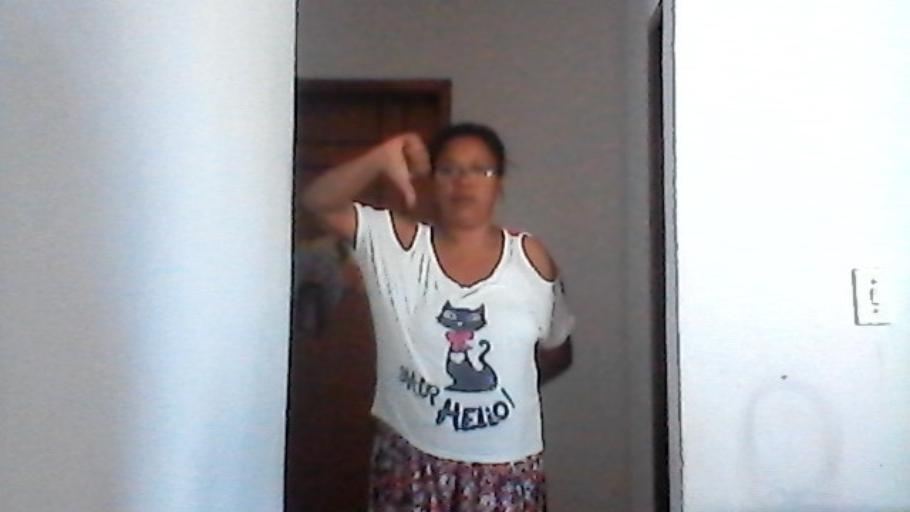dislike: (376, 130, 432, 210)
